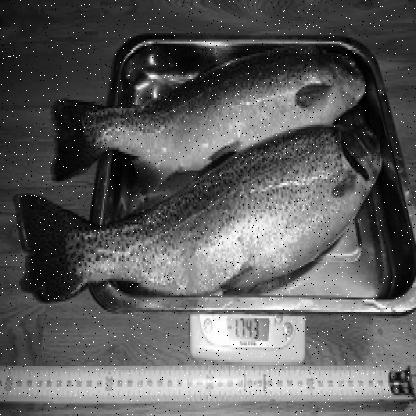fish: (10, 124, 382, 300), (42, 41, 366, 193)
